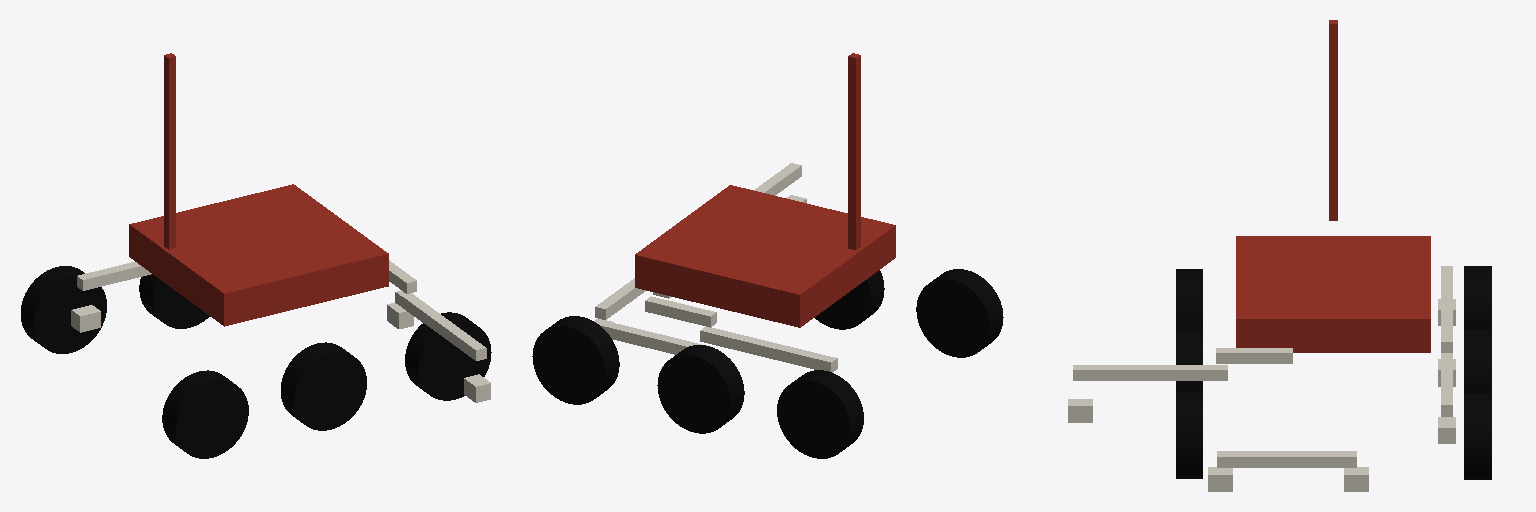
The robot description file, URDF, robot "urc_rover_v5":
<?xml version="1.0"?>
<!-- GENERATED by tools/rover_cad/build_urdf.py from placeholder_export. Edit tools/rover_cad/rover_config.yaml and re-run instead of editing this file. -->
<robot name="urc_rover_v5">
  <material name="mat_wheel">
    <color rgba="0.08 0.08 0.08 1"/>
  </material>
  <material name="mat_base_link">
    <color rgba="0.62 0.22 0.17 1"/>
  </material>
  <material name="mat_other">
    <color rgba="0.85 0.83 0.78 1"/>
  </material>
  <link name="base_link">
    <inertial>
      <origin xyz="-0.004439 0 0.015005" rpy="0 0 0"/>
      <mass value="12.0645"/>
      <inertia ixx="0.447448" ixy="0" ixz="0.0243114" iyy="0.465418" iyz="0" izz="0.805642"/>
    </inertial>
    <visual>
      <origin xyz="0 0 0" rpy="0 0 0"/>
      <geometry>
        <mesh filename="package://rover_description/meshes/base_link.stl"/>
      </geometry>
      <material name="mat_base_link"/>
    </visual>
    <collision>
      <origin xyz="0 0 0" rpy="0 0 0"/>
      <geometry>
        <mesh filename="package://rover_description/meshes/base_link_collision.stl"/>
      </geometry>
    </collision>
  </link>
  <link name="rocker_left">
    <inertial>
      <origin xyz="-0.178495 0 -0.141" rpy="0 0 0"/>
      <mass value="1.3392"/>
      <inertia ixx="0.00633052" ixy="0" ixz="-0.015732" iyy="0.0737486" iyz="0" izz="0.0678626"/>
    </inertial>
    <visual>
      <origin xyz="0 0 0" rpy="0 0 0"/>
      <geometry>
        <mesh filename="package://rover_description/meshes/rocker_left.stl"/>
      </geometry>
      <material name="mat_other"/>
    </visual>
    <collision>
      <origin xyz="0 0 0" rpy="0 0 0"/>
      <geometry>
        <mesh filename="package://rover_description/meshes/rocker_left_collision.stl"/>
      </geometry>
    </collision>
  </link>
  <link name="rocker_right">
    <inertial>
      <origin xyz="-0.178495 0 -0.141" rpy="0 0 0"/>
      <mass value="1.3392"/>
      <inertia ixx="0.00633052" ixy="0" ixz="-0.015732" iyy="0.0737486" iyz="0" izz="0.0678626"/>
    </inertial>
    <visual>
      <origin xyz="0 0 0" rpy="0 0 0"/>
      <geometry>
        <mesh filename="package://rover_description/meshes/rocker_right.stl"/>
      </geometry>
      <material name="mat_other"/>
    </visual>
    <collision>
      <origin xyz="0 0 0" rpy="0 0 0"/>
      <geometry>
        <mesh filename="package://rover_description/meshes/rocker_right_collision.stl"/>
      </geometry>
    </collision>
  </link>
  <link name="bogie_left">
    <inertial>
      <origin xyz="0.001222 0 -0.092111" rpy="0 0 0"/>
      <mass value="1.1664"/>
      <inertia ixx="0.00189604" ixy="0" ixz="0.0001008" iyy="0.0379634" iyz="0" izz="0.0365522"/>
    </inertial>
    <visual>
      <origin xyz="0 0 0" rpy="0 0 0"/>
      <geometry>
        <mesh filename="package://rover_description/meshes/bogie_left.stl"/>
      </geometry>
      <material name="mat_other"/>
    </visual>
    <collision>
      <origin xyz="0 0 0" rpy="0 0 0"/>
      <geometry>
        <mesh filename="package://rover_description/meshes/bogie_left_collision.stl"/>
      </geometry>
    </collision>
  </link>
  <link name="bogie_right">
    <inertial>
      <origin xyz="-0.001778 0 -0.096111" rpy="0 0 0"/>
      <mass value="1.1664"/>
      <inertia ixx="0.00189604" ixy="0" ixz="0.0001008" iyy="0.0379634" iyz="0" izz="0.0365522"/>
    </inertial>
    <visual>
      <origin xyz="0 0 0" rpy="0 0 0"/>
      <geometry>
        <mesh filename="package://rover_description/meshes/bogie_right.stl"/>
      </geometry>
      <material name="mat_other"/>
    </visual>
    <collision>
      <origin xyz="0 0 0" rpy="0 0 0"/>
      <geometry>
        <mesh filename="package://rover_description/meshes/bogie_right_collision.stl"/>
      </geometry>
    </collision>
  </link>
  <link name="wheel_front_left">
    <inertial>
      <origin xyz="-0 0 -0" rpy="0 0 0"/>
      <mass value="3.3156"/>
      <inertia ixx="0.018439" ixy="0" ixz="0" iyy="0.032401" iyz="0" izz="0.018439"/>
    </inertial>
    <visual>
      <origin xyz="0 0 0" rpy="0 0 0"/>
      <geometry>
        <mesh filename="package://rover_description/meshes/wheel_front_left.stl"/>
      </geometry>
      <material name="mat_wheel"/>
    </visual>
    <collision>
      <origin xyz="0 0 0" rpy="1.570796 0 0"/>
      <geometry>
        <cylinder radius="0.1400" length="0.0900"/>
      </geometry>
    </collision>
  </link>
  <link name="wheel_middle_left">
    <inertial>
      <origin xyz="0 0 0" rpy="0 0 0"/>
      <mass value="3.3156"/>
      <inertia ixx="0.018439" ixy="0" ixz="0" iyy="0.032401" iyz="0" izz="0.018439"/>
    </inertial>
    <visual>
      <origin xyz="0 0 0" rpy="0 0 0"/>
      <geometry>
        <mesh filename="package://rover_description/meshes/wheel_middle_left.stl"/>
      </geometry>
      <material name="mat_wheel"/>
    </visual>
    <collision>
      <origin xyz="0 0 0" rpy="1.570796 0 0"/>
      <geometry>
        <cylinder radius="0.1400" length="0.0900"/>
      </geometry>
    </collision>
  </link>
  <link name="wheel_rear_left">
    <inertial>
      <origin xyz="0 0 0" rpy="0 0 0"/>
      <mass value="3.3156"/>
      <inertia ixx="0.018439" ixy="0" ixz="0" iyy="0.032401" iyz="0" izz="0.018439"/>
    </inertial>
    <visual>
      <origin xyz="0 0 0" rpy="0 0 0"/>
      <geometry>
        <mesh filename="package://rover_description/meshes/wheel_rear_left.stl"/>
      </geometry>
      <material name="mat_wheel"/>
    </visual>
    <collision>
      <origin xyz="0 0 0" rpy="1.570796 0 0"/>
      <geometry>
        <cylinder radius="0.1400" length="0.0900"/>
      </geometry>
    </collision>
  </link>
  <link name="wheel_front_right">
    <inertial>
      <origin xyz="-0 -0 -0" rpy="0 0 0"/>
      <mass value="3.3156"/>
      <inertia ixx="0.018439" ixy="0" ixz="0" iyy="0.032401" iyz="0" izz="0.018439"/>
    </inertial>
    <visual>
      <origin xyz="0 0 0" rpy="0 0 0"/>
      <geometry>
        <mesh filename="package://rover_description/meshes/wheel_front_right.stl"/>
      </geometry>
      <material name="mat_wheel"/>
    </visual>
    <collision>
      <origin xyz="0 0 0" rpy="1.570796 0 0"/>
      <geometry>
        <cylinder radius="0.1400" length="0.0900"/>
      </geometry>
    </collision>
  </link>
  <link name="wheel_middle_right">
    <inertial>
      <origin xyz="-0 -0 0" rpy="0 0 0"/>
      <mass value="3.3156"/>
      <inertia ixx="0.018439" ixy="0" ixz="0" iyy="0.032401" iyz="0" izz="0.018439"/>
    </inertial>
    <visual>
      <origin xyz="0 0 0" rpy="0 0 0"/>
      <geometry>
        <mesh filename="package://rover_description/meshes/wheel_middle_right.stl"/>
      </geometry>
      <material name="mat_wheel"/>
    </visual>
    <collision>
      <origin xyz="0 0 0" rpy="1.570796 0 0"/>
      <geometry>
        <cylinder radius="0.1400" length="0.0900"/>
      </geometry>
    </collision>
  </link>
  <link name="wheel_rear_right">
    <inertial>
      <origin xyz="-0 -0 -0" rpy="0 0 0"/>
      <mass value="3.3156"/>
      <inertia ixx="0.018439" ixy="0" ixz="0" iyy="0.032401" iyz="0" izz="0.018439"/>
    </inertial>
    <visual>
      <origin xyz="0 0 0" rpy="0 0 0"/>
      <geometry>
        <mesh filename="package://rover_description/meshes/wheel_rear_right.stl"/>
      </geometry>
      <material name="mat_wheel"/>
    </visual>
    <collision>
      <origin xyz="0 0 0" rpy="1.570796 0 0"/>
      <geometry>
        <cylinder radius="0.1400" length="0.0900"/>
      </geometry>
    </collision>
  </link>
  <joint name="rocker_left_joint" type="revolute">
    <parent link="base_link"/>
    <child link="rocker_left"/>
    <origin xyz="0 0.366 0" rpy="0 0 0"/>
    <axis xyz="0 1 0"/>
    <limit lower="-0.6109" upper="0.6109" effort="1000" velocity="10"/>
    <dynamics damping="5.000" friction="0"/>
  </joint>
  <joint name="rocker_right_joint" type="revolute">
    <parent link="base_link"/>
    <child link="rocker_right"/>
    <origin xyz="0 -0.366 0" rpy="0 0 0"/>
    <axis xyz="0 1 0"/>
    <limit lower="-0.6109" upper="0.6109" effort="1000" velocity="10"/>
    <dynamics damping="5.000" friction="0"/>
  </joint>
  <joint name="bogie_left_joint" type="revolute">
    <parent link="rocker_left"/>
    <child link="bogie_left"/>
    <origin xyz="0.216 0 -0.14" rpy="0 0 0"/>
    <axis xyz="0 1 0"/>
    <limit lower="-0.7854" upper="0.7854" effort="1000" velocity="10"/>
    <dynamics damping="1.000" friction="0"/>
  </joint>
  <joint name="bogie_right_joint" type="revolute">
    <parent link="rocker_right"/>
    <child link="bogie_right"/>
    <origin xyz="0.219 0 -0.136" rpy="0 0 0"/>
    <axis xyz="0 1 0"/>
    <limit lower="-0.7854" upper="0.7854" effort="1000" velocity="10"/>
    <dynamics damping="1.000" friction="0"/>
  </joint>
  <joint name="wheel_front_left_joint" type="continuous">
    <parent link="bogie_left"/>
    <child link="wheel_front_left"/>
    <origin xyz="0.236 0.099 -0.147" rpy="0 0 0"/>
    <axis xyz="0 1 0"/>
    <limit effort="200" velocity="30"/>
    <dynamics damping="0.1" friction="0"/>
  </joint>
  <joint name="wheel_middle_left_joint" type="continuous">
    <parent link="bogie_left"/>
    <child link="wheel_middle_left"/>
    <origin xyz="-0.24 0.099 -0.141" rpy="0 0 0"/>
    <axis xyz="0 1 0"/>
    <limit effort="200" velocity="30"/>
    <dynamics damping="0.1" friction="0"/>
  </joint>
  <joint name="wheel_rear_left_joint" type="continuous">
    <parent link="rocker_left"/>
    <child link="wheel_rear_left"/>
    <origin xyz="-0.479 0.099 -0.267" rpy="0 0 0"/>
    <axis xyz="0 1 0"/>
    <limit effort="200" velocity="30"/>
    <dynamics damping="0.1" friction="0"/>
  </joint>
  <joint name="wheel_front_right_joint" type="continuous">
    <parent link="bogie_right"/>
    <child link="wheel_front_right"/>
    <origin xyz="0.237 -0.099 -0.144" rpy="0 0 0"/>
    <axis xyz="0 1 0"/>
    <limit effort="200" velocity="30"/>
    <dynamics damping="0.1" friction="0"/>
  </joint>
  <joint name="wheel_middle_right_joint" type="continuous">
    <parent link="bogie_right"/>
    <child link="wheel_middle_right"/>
    <origin xyz="-0.239 -0.099 -0.143" rpy="0 0 0"/>
    <axis xyz="0 1 0"/>
    <limit effort="200" velocity="30"/>
    <dynamics damping="0.1" friction="0"/>
  </joint>
  <joint name="wheel_rear_right_joint" type="continuous">
    <parent link="rocker_right"/>
    <child link="wheel_rear_right"/>
    <origin xyz="-0.473 -0.099 -0.276" rpy="0 0 0"/>
    <axis xyz="0 1 0"/>
    <limit effort="200" velocity="30"/>
    <dynamics damping="0.1" friction="0"/>
  </joint>
</robot>

--- Facts derived from the render (not from the file) ---
Views: 3 orthographic renders of the robot side by side, from view 1: azimuth 30°, elevation 25°; view 2: azimuth 150°, elevation 25°; view 3: azimuth 270°, elevation 25°.
Robot: urc_rover_v5 — 11 links, 10 joints (4 revolute, 6 continuous); root link base_link; default pose: all joints at 0.
Visible links, largest first — view 1: base_link, wheel_rear_right, wheel_middle_right, wheel_rear_left, wheel_front_right, rocker_right, wheel_middle_left, rocker_left, bogie_right; view 2: base_link, wheel_rear_left, wheel_middle_left, wheel_rear_right, wheel_front_left, rocker_left, wheel_middle_right, bogie_left, bogie_right, rocker_right; view 3: base_link, rocker_right, bogie_right, wheel_front_left, wheel_front_right, wheel_middle_left, wheel_rear_left, wheel_rear_right, bogie_left, wheel_middle_right, rocker_left.
Link boxes in pixels (x1,y1,x2,y2): base_link: (129,53,388,326); wheel_rear_right: (162,370,248,458); wheel_middle_right: (281,342,366,430); wheel_rear_left: (21,266,106,353); wheel_front_right: (405,312,491,400); rocker_right: (389,260,490,402); wheel_middle_left: (139,274,209,328); rocker_left: (71,262,151,332); bogie_right: (387,290,422,328); base_link: (635,53,895,327); wheel_rear_left: (777,370,863,458); wheel_middle_left: (657,345,744,433); wheel_rear_right: (916,269,1003,357); wheel_front_left: (532,316,619,404); rocker_left: (645,296,837,372); wheel_middle_right: (815,270,884,329); bogie_left: (594,319,714,354); bogie_right: (595,278,670,339); rocker_right: (754,163,806,202); base_link: (1236,20,1430,352); rocker_right: (1068,348,1292,422); bogie_right: (1208,451,1368,491); wheel_front_left: (1464,393,1491,479); wheel_front_right: (1176,392,1202,478); wheel_middle_left: (1464,329,1491,392); wheel_rear_left: (1464,266,1491,328); wheel_rear_right: (1176,269,1202,328); bogie_left: (1438,353,1455,443); wheel_middle_right: (1176,329,1202,391); rocker_left: (1438,266,1455,352).
Size in the robot's own frame: 1.23 by 1.37 by 1.25 metres.
Meshes: 11 distinct files referenced, 11 mesh visuals loaded (11 binary STL).
